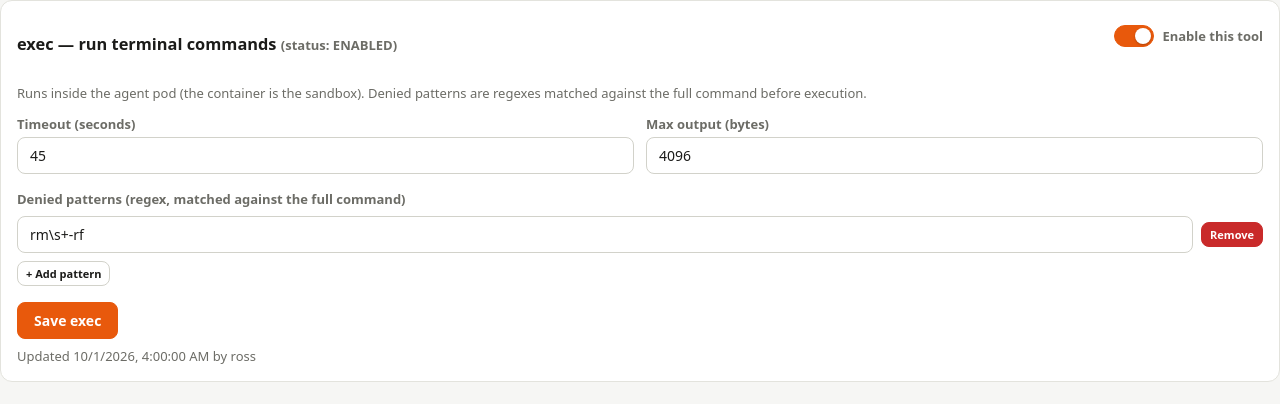
Test: ToolCard save paths › surfaces the server 400 message inline
This screenshot has width=1280, height=404.
Click the button "Save exec". click: (68, 320)
box: [17,302,118,339]
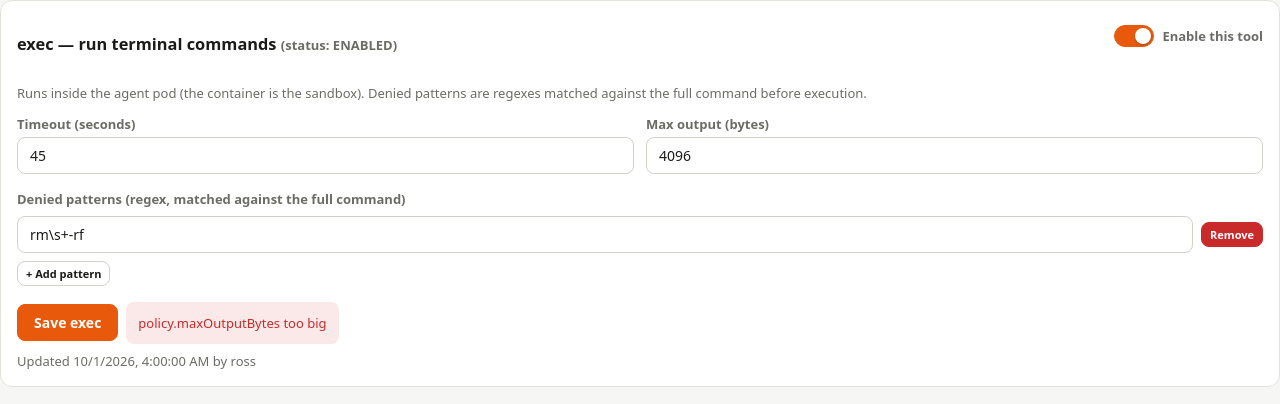
expect the message reads "policy.maxOutputBytes too big": met, box [138,314,326,332]
